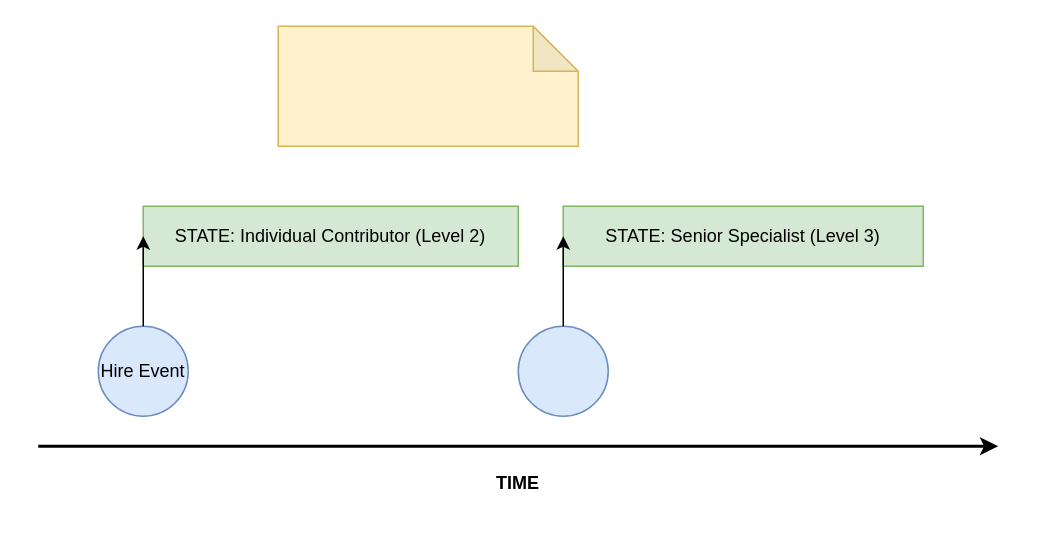
Image size: 1037x533. Some labels were removed from this diagram. The shapes that lost their labels are listed below. From the top down, each one's centre as x and y in pixels, then its label:
At point (427, 85): "Analytic Engine fuses events into a continuous temporal history for the Subject.".
At point (562, 370): "Promotion".
